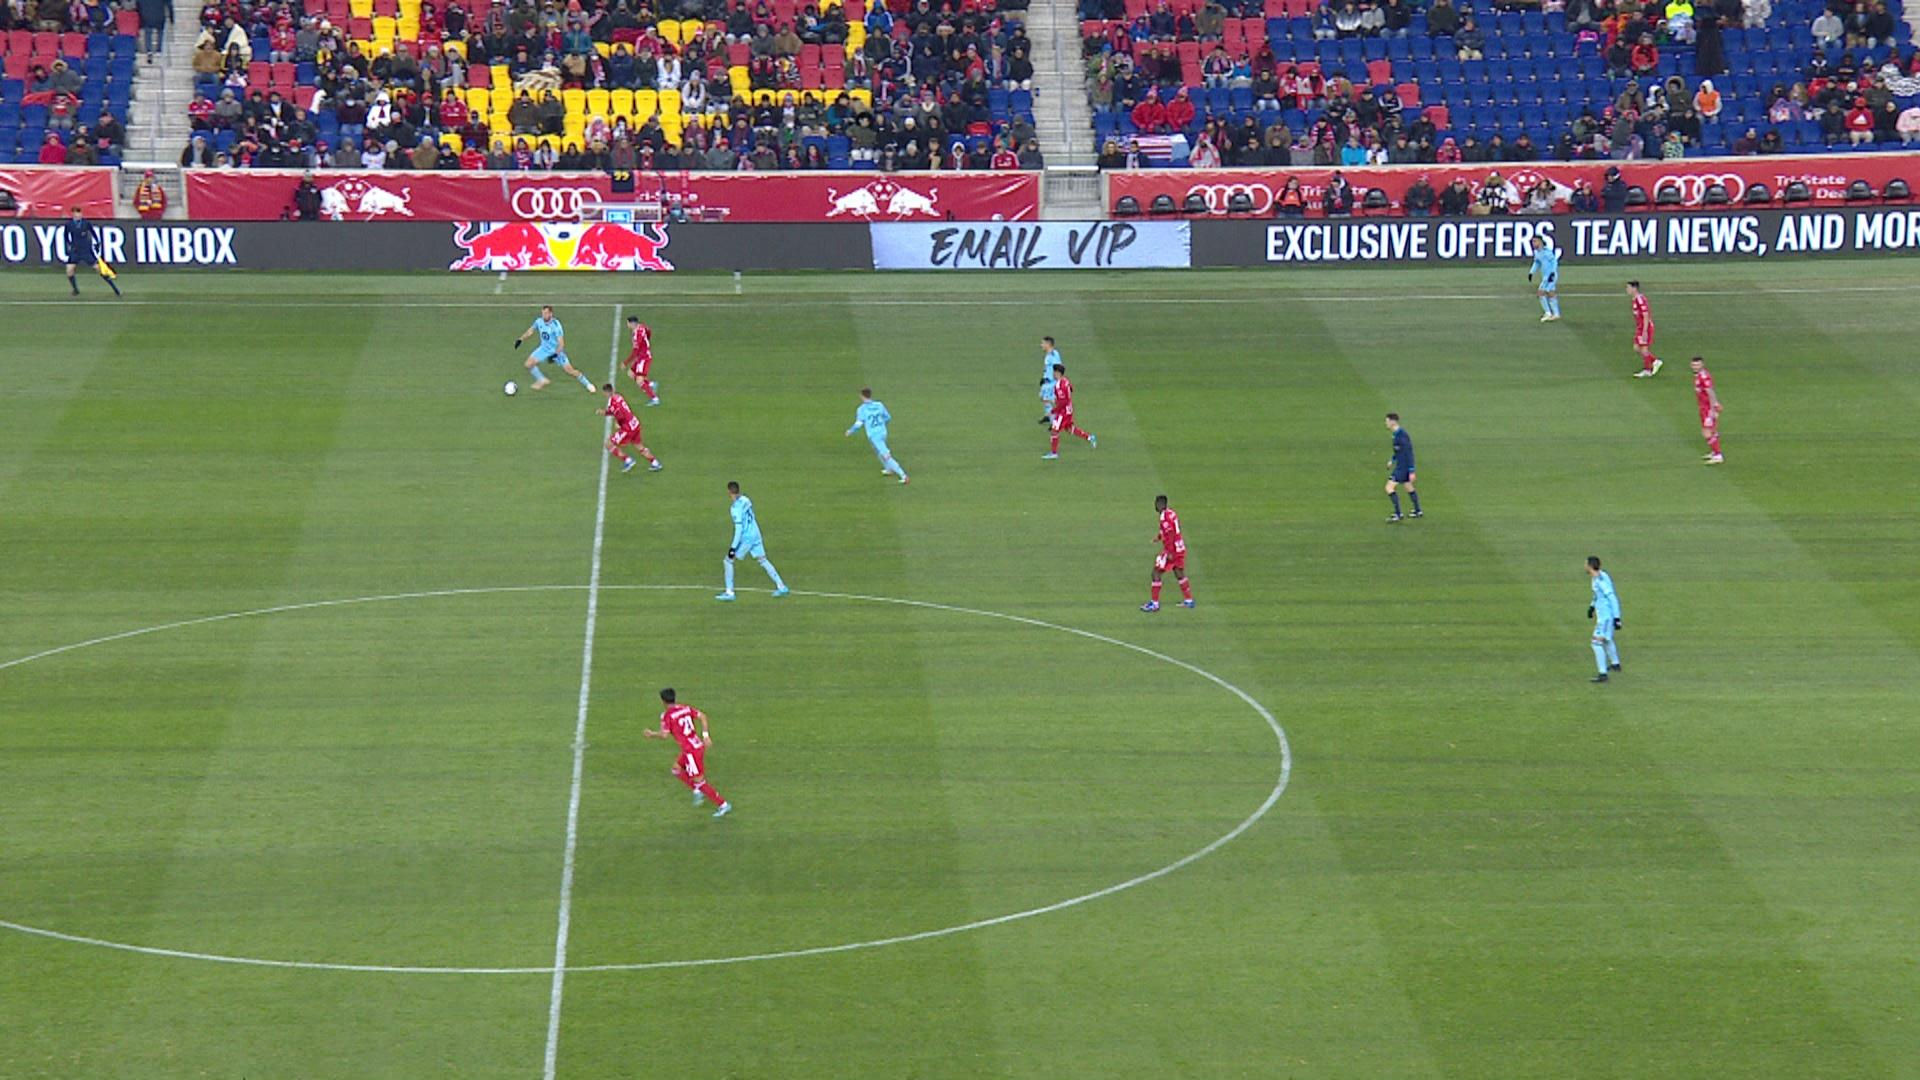football: (503, 379, 519, 396)
